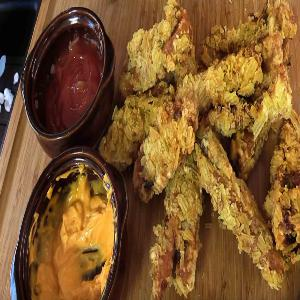fries_350cal: (120, 9, 295, 288)
